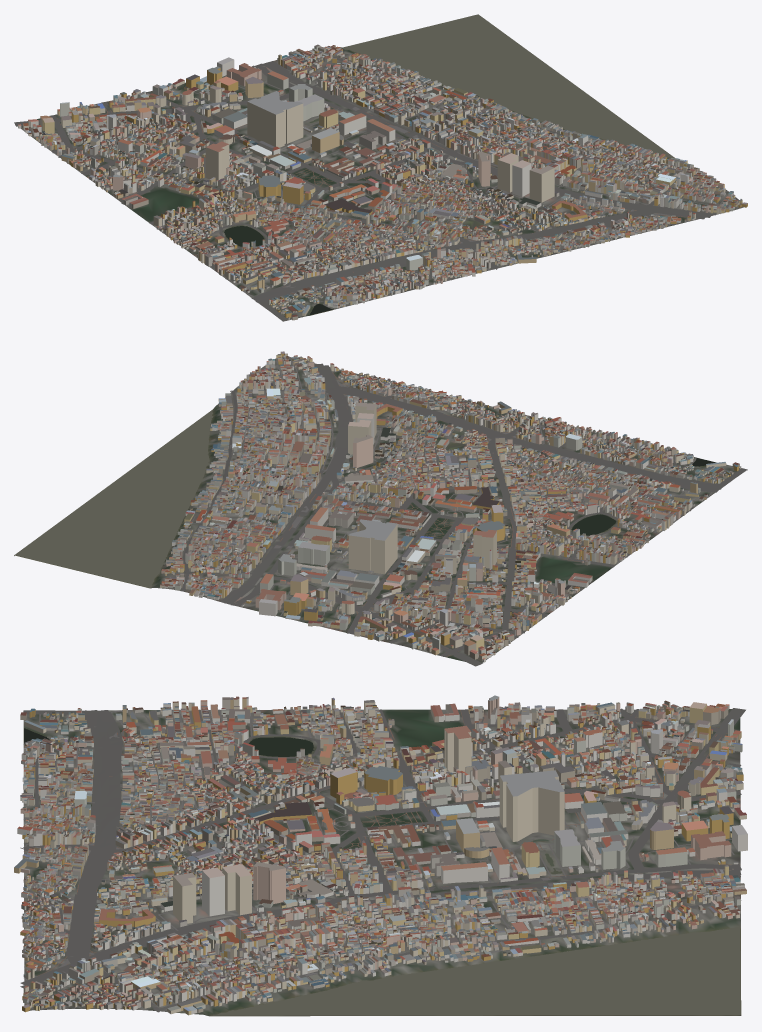
3 renders of one model, top to bottom at view 1: azimuth 30°, elevation 25°; view 2: azimuth 150°, elevation 25°; view 3: azimuth 270°, elevation 25°, orthographic. The views are drawn at different scales.
Parts seen in each view (by area): view 1: buildings, ground, water, roads; view 2: buildings, ground, roads, water; view 3: buildings, ground, water, roads.
Part boxes in pixels (x1=…): buildings: x1=18, y1=44, x2=747, y2=320; ground: x1=21, y1=21, x2=743, y2=320; water: x1=224, y1=14, x2=675, y2=315; roads: x1=14, y1=50, x2=740, y2=321; buildings: x1=160, y1=351, x2=741, y2=662; ground: x1=14, y1=356, x2=747, y2=662; roads: x1=181, y1=356, x2=747, y2=666; water: x1=15, y1=410, x2=716, y2=587; buildings: x1=14, y1=695, x2=747, y2=1015; ground: x1=23, y1=709, x2=741, y2=1016; water: x1=24, y1=728, x2=740, y2=1015; roads: x1=20, y1=708, x2=745, y2=1012.
Bounding box in the file's own units: 1413 × 110 × 1435.
